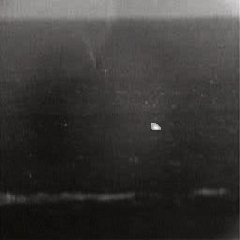Target: (150, 122, 162, 131)
